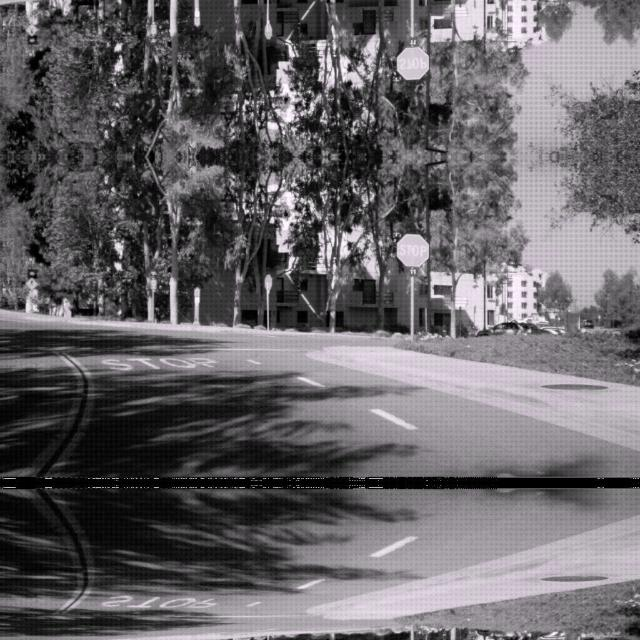pedestrianCrossing: (24, 276, 38, 288), (24, 24, 38, 36)
stop: (396, 232, 428, 266), (396, 46, 428, 80)
